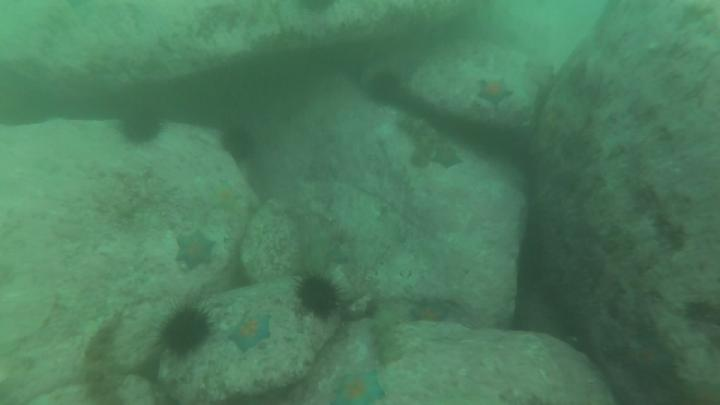echinus: (153, 301, 216, 362), (291, 269, 346, 321), (113, 104, 167, 149), (363, 69, 408, 109), (217, 127, 259, 166), (296, 1, 341, 18)
holothurian: (75, 309, 131, 405), (391, 112, 439, 171)
starfish: (331, 366, 392, 405), (226, 309, 275, 355), (175, 228, 220, 275), (205, 179, 247, 217), (474, 76, 518, 110), (408, 297, 453, 327), (432, 144, 466, 173)
